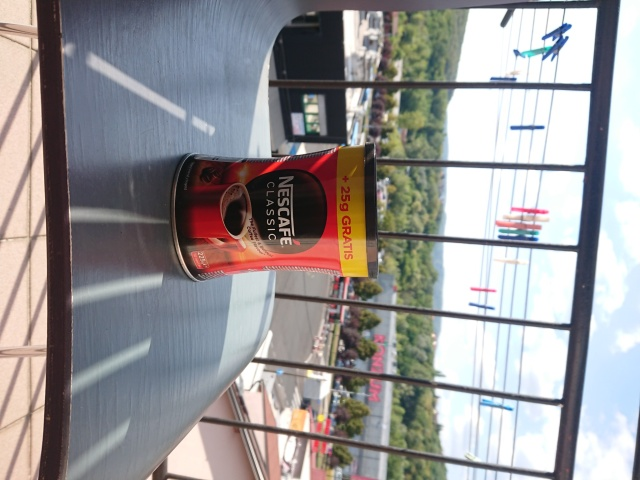Nescafe Classic 225g: (162, 135, 389, 291)
